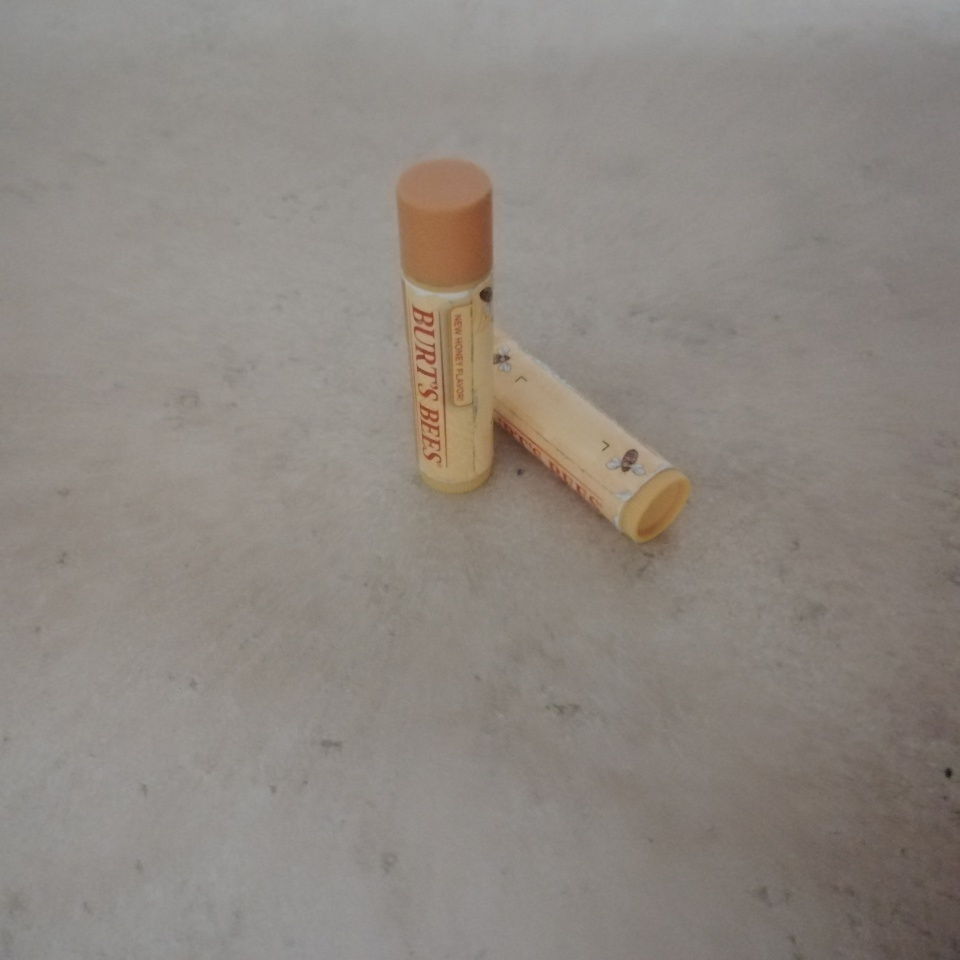chapstick: (493, 322, 691, 545), (398, 159, 500, 492)
